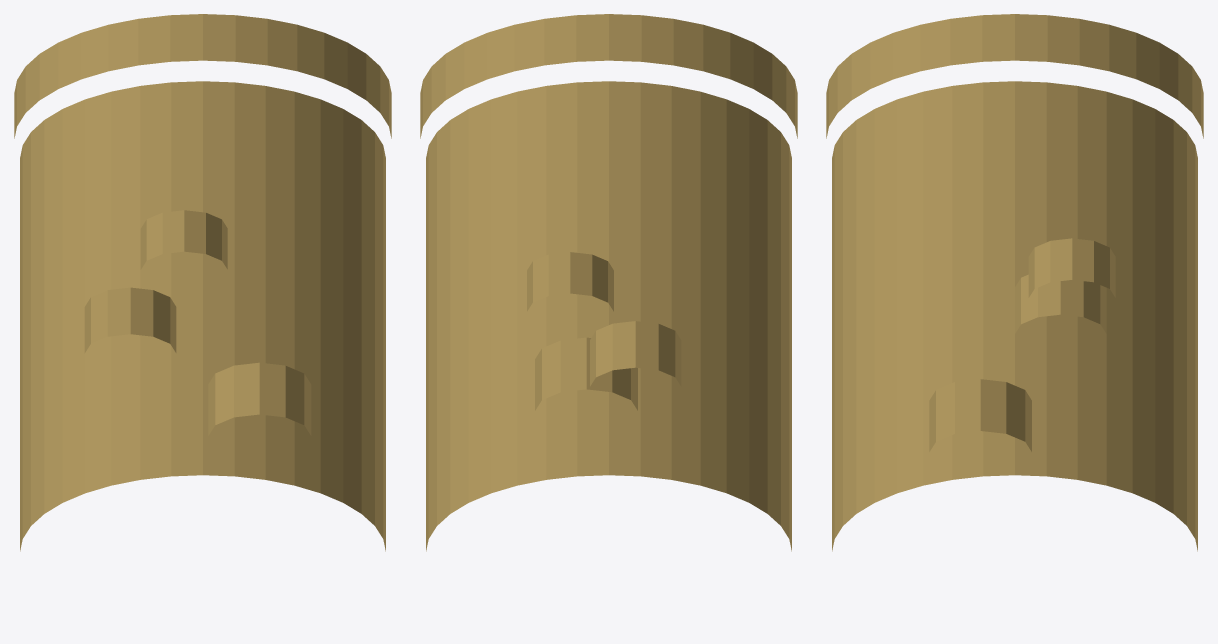
The model's file is mango-achar-jar.glb.
3 renders of one model, left to right at view 1: azimuth 30°, elevation 25°; view 2: azimuth 150°, elevation 25°; view 3: azimuth 270°, elevation 25°, orthographic.
Parts seen in each view (by area): view 1: MangoAcharJar; view 2: MangoAcharJar; view 3: MangoAcharJar.
Part boxes in pixels (box(x1,y1,x2,y2)): MangoAcharJar: box(14, 14, 391, 551); MangoAcharJar: box(420, 14, 797, 551); MangoAcharJar: box(826, 14, 1203, 551).
Size of the model in its own units: 3.3 by 4.43 by 3.3.
